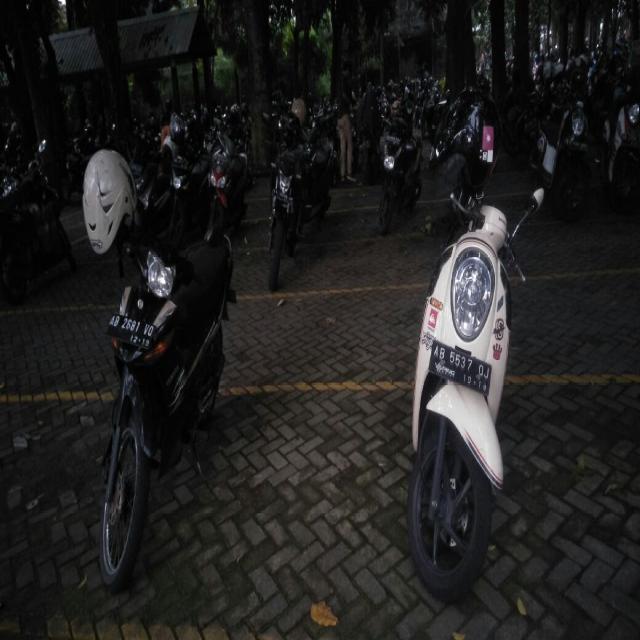plate: (427, 338, 491, 393), (105, 312, 155, 351)
